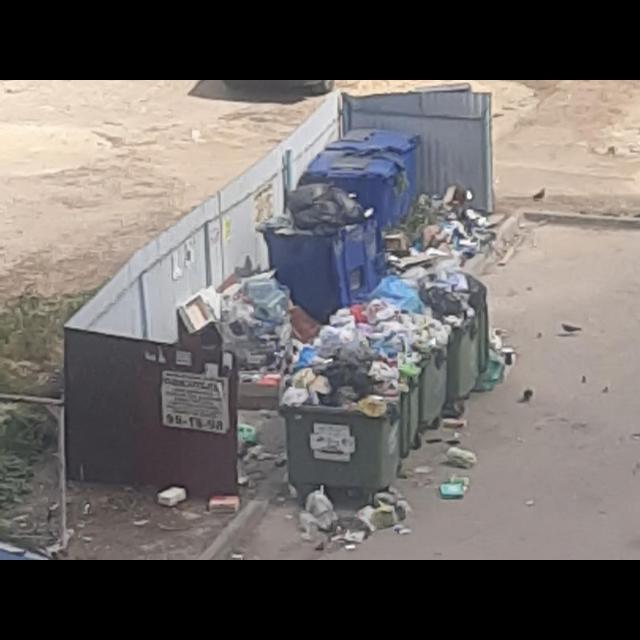Trash_Can_Closed: (325, 124, 421, 211), (302, 149, 401, 228)
Trash_Can_Full: (279, 347, 406, 493), (256, 183, 384, 325)
